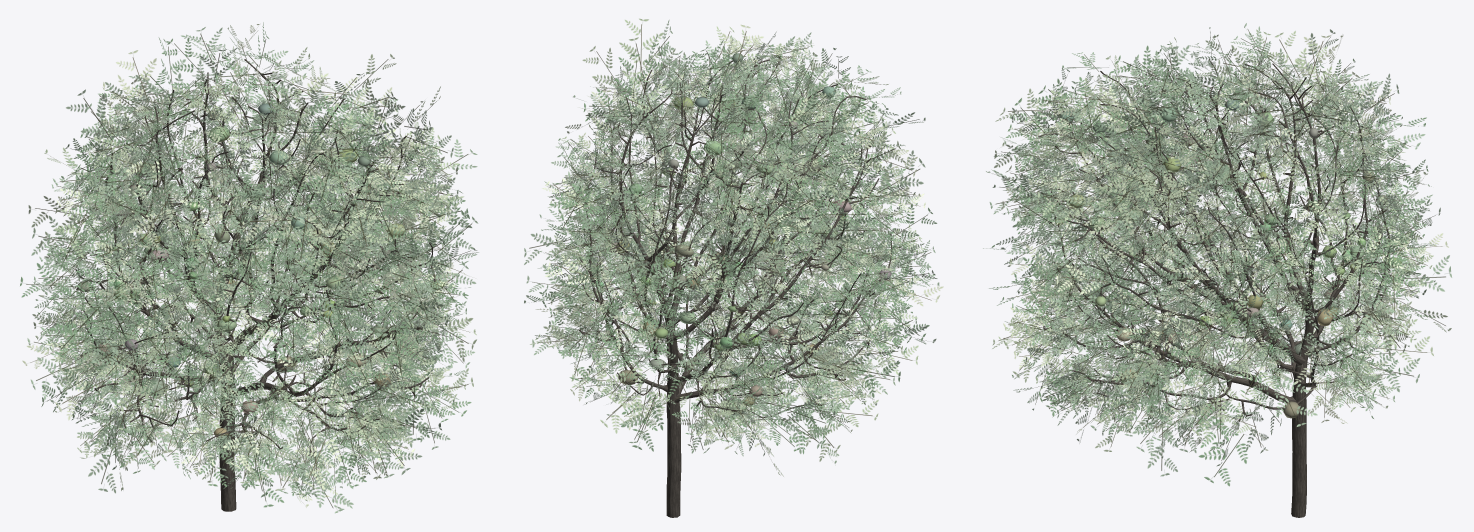
The model's file is tree_46_broadleaf.glb.
The picture shows the model from 3 angles, left to right: view 1: azimuth 30°, elevation 25°; view 2: azimuth 150°, elevation 25°; view 3: azimuth 270°, elevation 25°; orthographic projection. The views are drawn at different scales.
Parts seen in each view (by area): view 1: tree_46_broadleaf.leaves, tree_46_broadleaf.trunk_branches, tree_46_broadleaf.foliage_volume; view 2: tree_46_broadleaf.leaves, tree_46_broadleaf.trunk_branches, tree_46_broadleaf.foliage_volume; view 3: tree_46_broadleaf.leaves, tree_46_broadleaf.trunk_branches, tree_46_broadleaf.foliage_volume.
Part boxes in pixels (x1,y1,x2,y2): tree_46_broadleaf.leaves: (20, 22, 478, 513); tree_46_broadleaf.trunk_branches: (75, 59, 435, 511); tree_46_broadleaf.foliage_volume: (77, 103, 444, 437); tree_46_broadleaf.leaves: (524, 18, 943, 476); tree_46_broadleaf.trunk_branches: (577, 56, 892, 517); tree_46_broadleaf.foliage_volume: (594, 53, 891, 415); tree_46_broadleaf.leaves: (983, 23, 1451, 486); tree_46_broadleaf.trunk_branches: (1038, 59, 1390, 517); tree_46_broadleaf.foliage_volume: (1054, 86, 1401, 418).
Bounding box in the file's own units: 10.63 × 12.08 × 11.14.
Materials: 3 (2 with a texture image).
